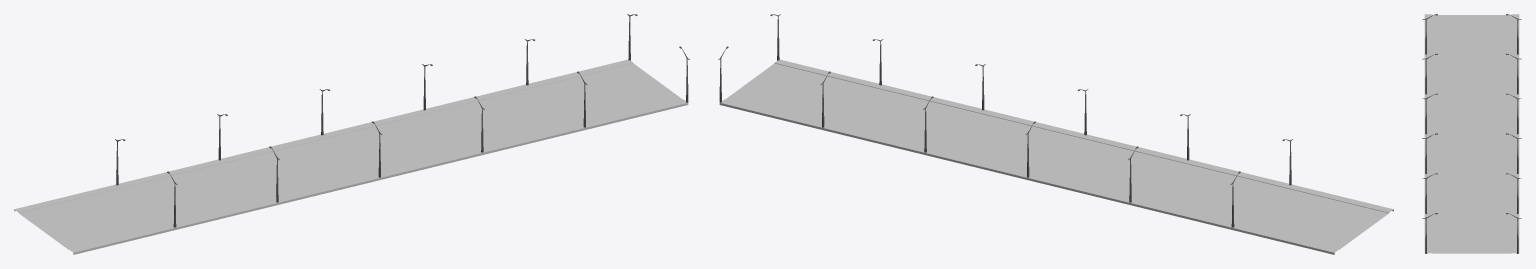
File: Big_Road_0.FBX
3 views of the same model, side by side, from view 1: azimuth 30°, elevation 25°; view 2: azimuth 150°, elevation 25°; view 3: azimuth 270°, elevation 25° (orthographic). The views are drawn at different scales.
Visible parts, largest first — view 1: Big_Road_0; view 2: Big_Road_0; view 3: Big_Road_0, City004, City005, City006, City011, City012, City016, City3, City013, City014, City015, City009 (+1 smaller).
Boxes of the visible parts, <box> form: Big_Road_0: <box>14,59,688,254</box>; Big_Road_0: <box>719,59,1393,254</box>; Big_Road_0: <box>1424,14,1519,253</box>; City004: <box>1422,213,1437,253</box>; City005: <box>1422,173,1437,213</box>; City006: <box>1506,173,1521,213</box>; City011: <box>1506,93,1521,134</box>; City012: <box>1422,93,1437,134</box>; City016: <box>1422,14,1437,54</box>; City3: <box>1506,213,1521,253</box>; City013: <box>1506,53,1521,94</box>; City014: <box>1422,53,1437,94</box>; City015: <box>1506,14,1521,54</box>; City009: <box>1506,133,1521,173</box>.
Bounding box in the file's own units: 136 × 23.94 × 11.04.
